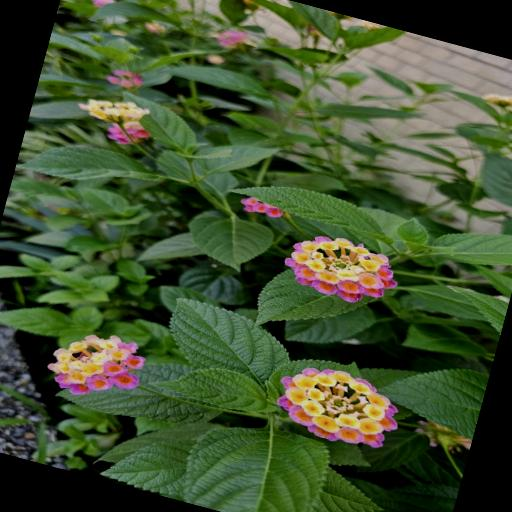Lantana: (263, 363, 411, 456), (278, 228, 405, 307), (45, 332, 149, 399)
